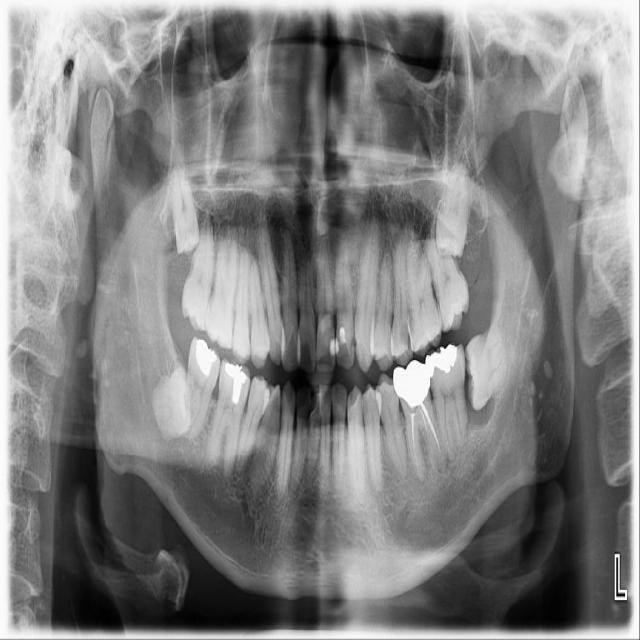3M ESPE Implant: (169, 165, 201, 255)
52: (176, 332, 237, 393), (388, 357, 439, 410), (422, 340, 470, 394), (217, 356, 252, 411), (317, 324, 335, 373), (336, 321, 354, 368)
73: (399, 400, 451, 485), (609, 576, 615, 590)
BioHorizons Implant: (422, 233, 476, 334)
BioLife Implant: (432, 161, 474, 259)
Biomet 3i Implant: (464, 328, 510, 410)
Blue Sky Bio Implant: (422, 340, 485, 462)
Caries: (178, 209, 219, 333)
Implant: (181, 336, 223, 438)
Keystone Dental Implant: (144, 364, 204, 440)
